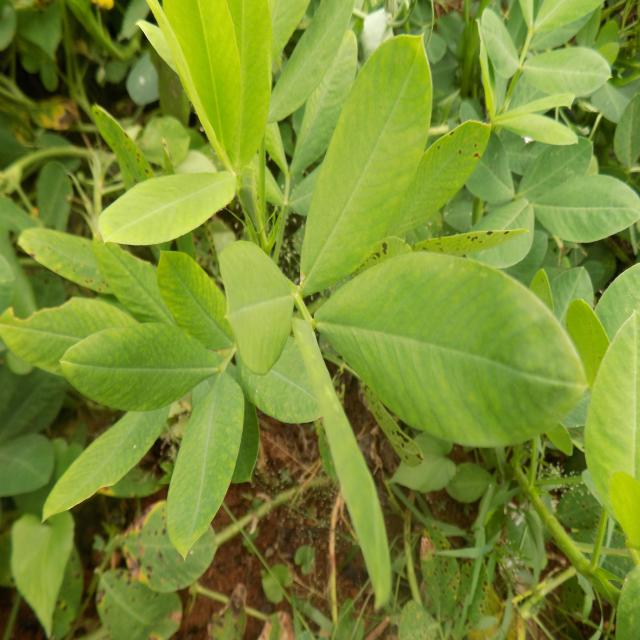Ground nut_healthy: (323, 250, 584, 449), (299, 35, 431, 286), (64, 318, 208, 411)
